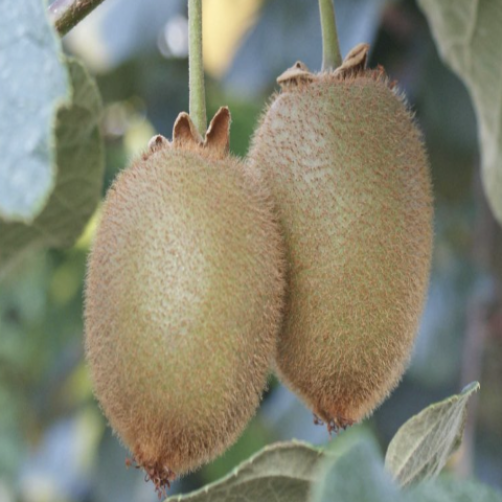kiwi: (233, 56, 453, 427), (85, 99, 287, 490)
